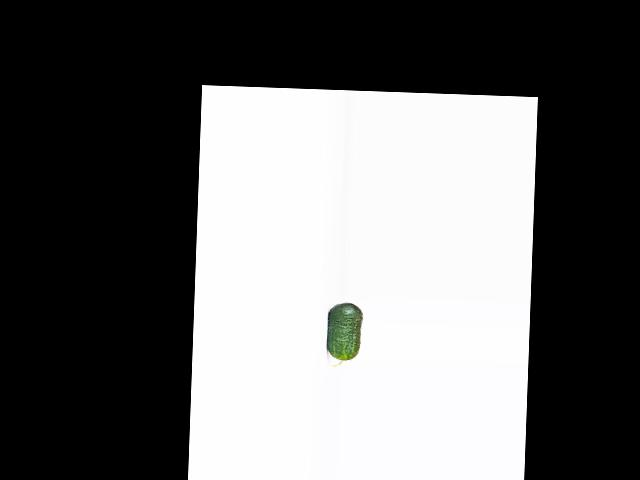cucumber: (325, 302, 363, 367)
